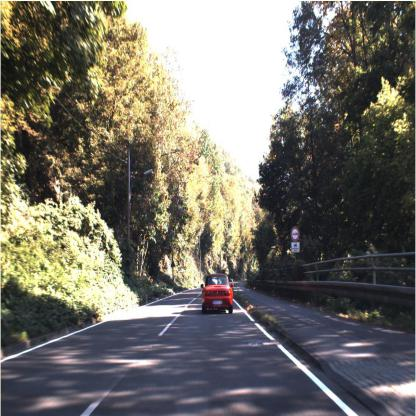prohibitory: (289, 223, 301, 244)
